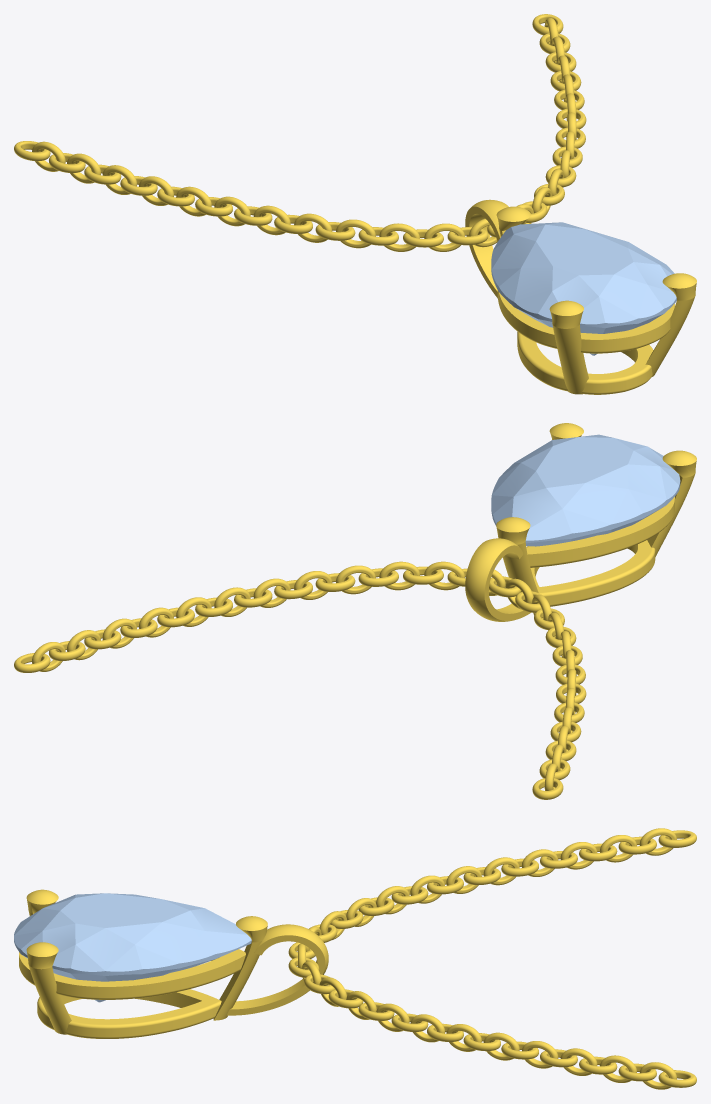
The picture shows the model from 3 angles, top to bottom: view 1: azimuth 30°, elevation 25°; view 2: azimuth 150°, elevation 25°; view 3: azimuth 270°, elevation 25°; orthographic projection. The views are drawn at different scales.
Parts seen in each view (by area): view 1: SP-3-3CT SINGLE JOINT HALF CHAIN.3dm, Diamond_Pear; view 2: SP-3-3CT SINGLE JOINT HALF CHAIN.3dm, Diamond_Pear; view 3: SP-3-3CT SINGLE JOINT HALF CHAIN.3dm, Diamond_Pear.
Part boxes in pixels (bbox=[...]): SP-3-3CT SINGLE JOINT HALF CHAIN.3dm: bbox=[14, 14, 696, 394]; Diamond_Pear: bbox=[491, 222, 676, 355]; SP-3-3CT SINGLE JOINT HALF CHAIN.3dm: bbox=[14, 423, 696, 799]; Diamond_Pear: bbox=[491, 434, 680, 546]; SP-3-3CT SINGLE JOINT HALF CHAIN.3dm: bbox=[19, 828, 696, 1089]; Diamond_Pear: bbox=[14, 893, 251, 1002].
Bounding box in the file's own units: 2.61 × 0.5051 × 2.99.
